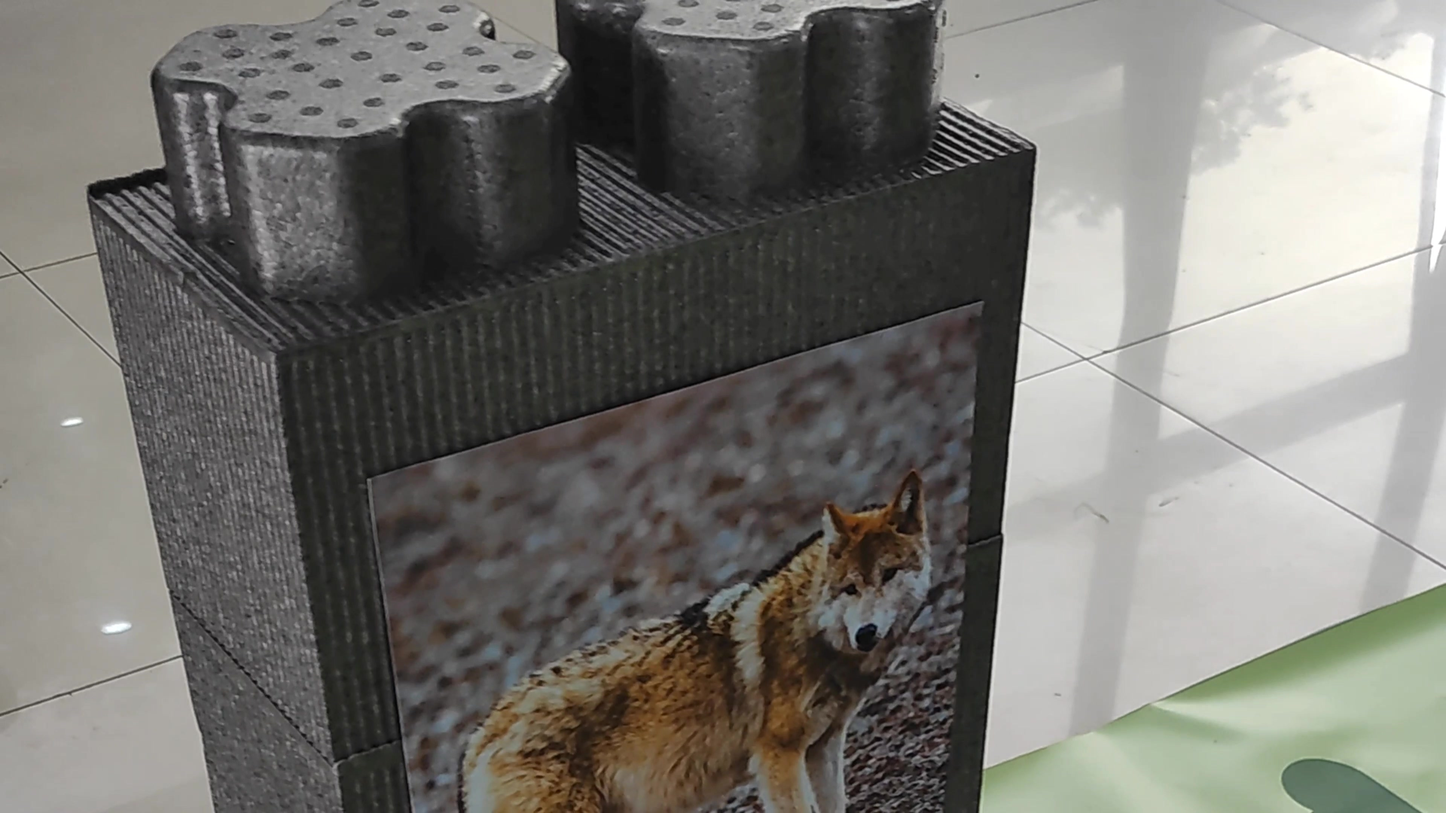wolf: (420, 435, 941, 813)
